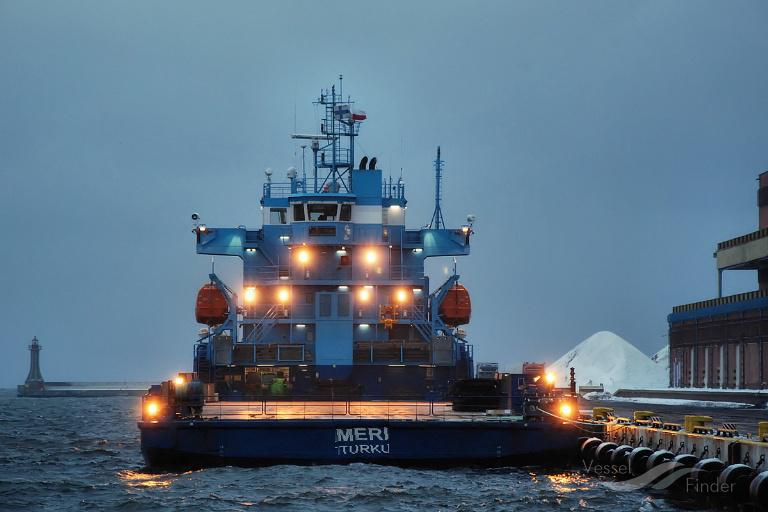OCR: (332, 422, 389, 462)
